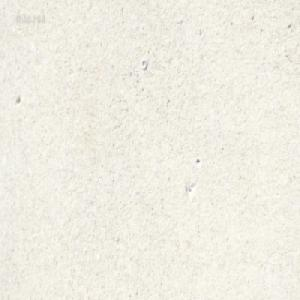Washer: (141, 58, 147, 69)
